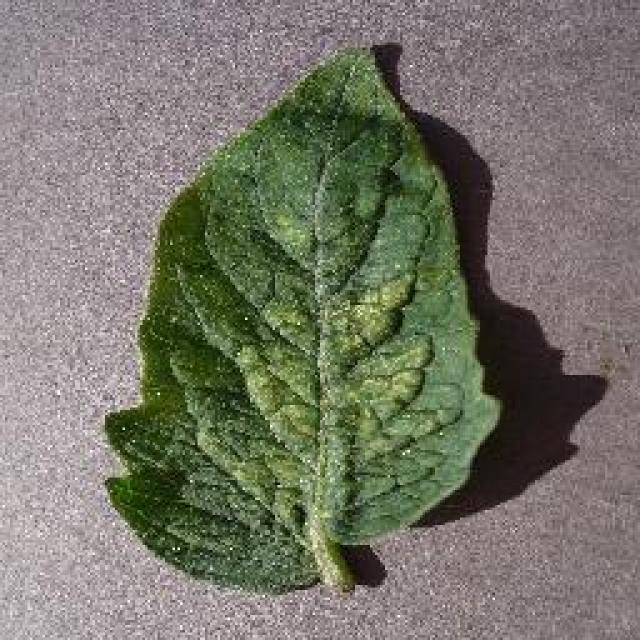Tomato spider mites leaf: (107, 41, 500, 592)
